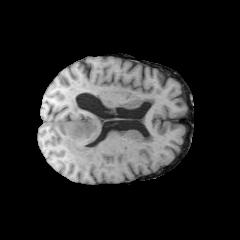glioma: (58, 107, 112, 170)
